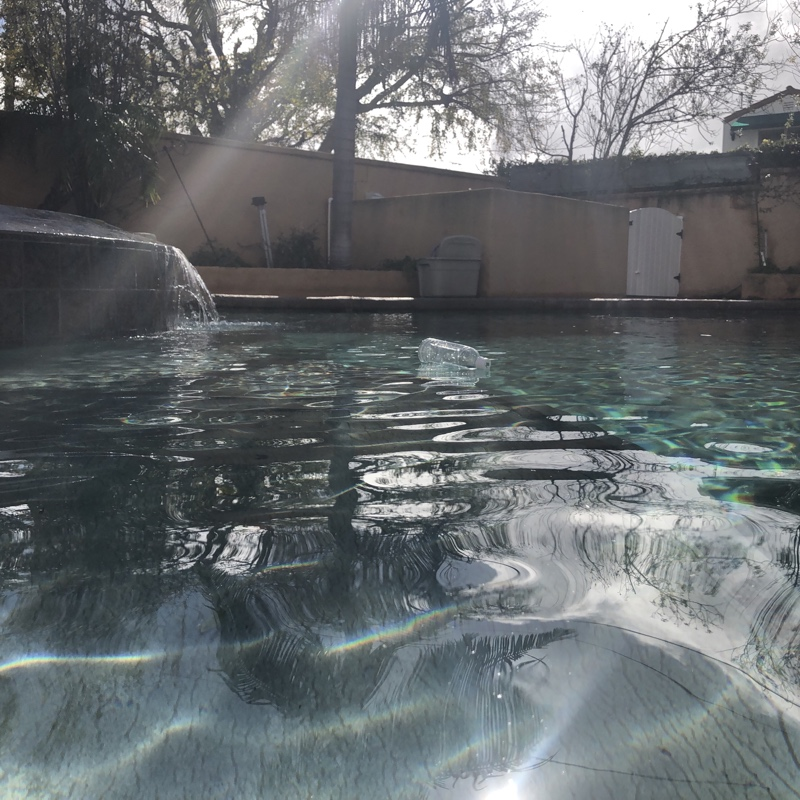Plastic Bottle: (416, 335, 495, 378)
